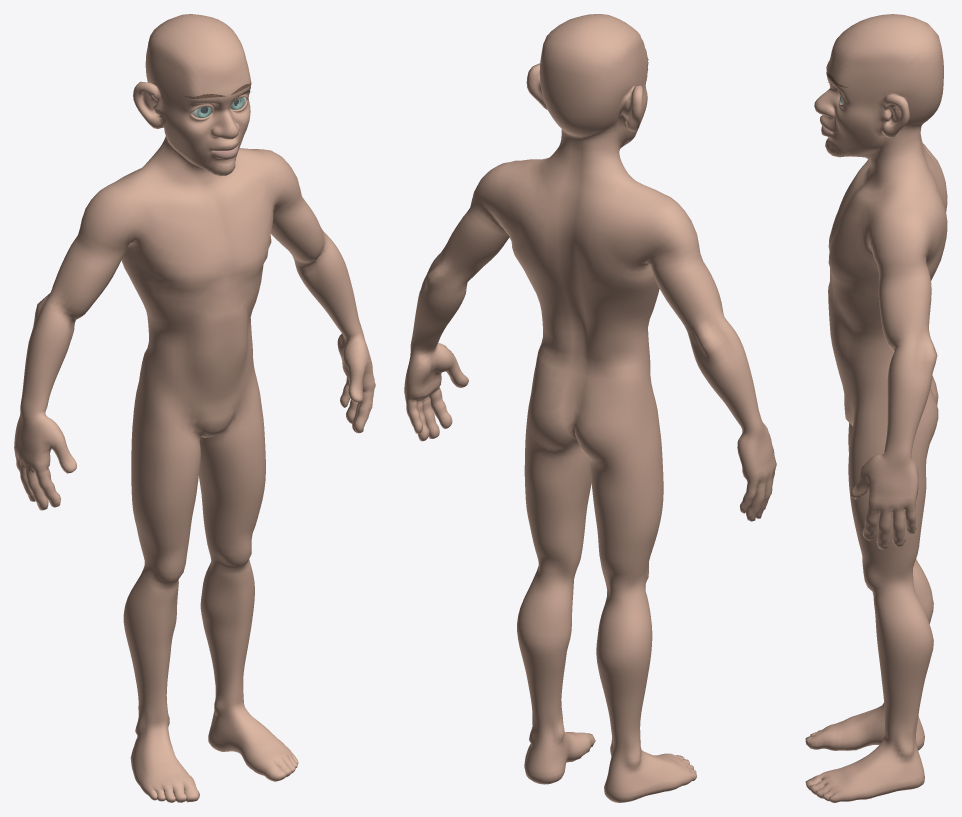
The model's file is masculine-LOOKDEV-ONLY-not-validated.glb.
The picture shows the model from 3 angles, left to right: view 1: azimuth 30°, elevation 25°; view 2: azimuth 150°, elevation 25°; view 3: azimuth 270°, elevation 25°; orthographic projection. The views are drawn at different scales.
Visible parts, largest first — view 1: GEO-body_male_stylized; view 2: GEO-body_male_stylized; view 3: GEO-body_male_stylized.
Part boxes in pixels (bbox=[...]): GEO-body_male_stylized: bbox=[14, 14, 375, 802]; GEO-body_male_stylized: bbox=[404, 14, 776, 802]; GEO-body_male_stylized: bbox=[805, 14, 947, 802].
Bounding box in the file's own units: 0.8637 × 1.77 × 0.3029.
